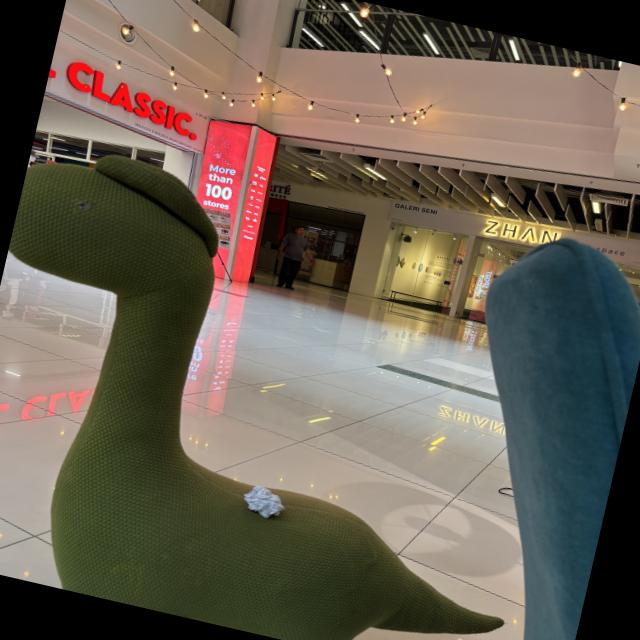crumpled_paper: (236, 481, 290, 524)
